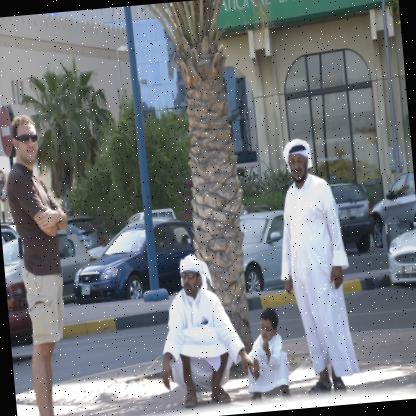Car: (70, 212, 202, 307), (240, 210, 290, 293), (364, 173, 415, 249), (329, 184, 376, 254), (56, 228, 99, 301), (2, 236, 32, 336), (386, 221, 415, 288), (66, 214, 104, 257), (1, 224, 19, 246)
